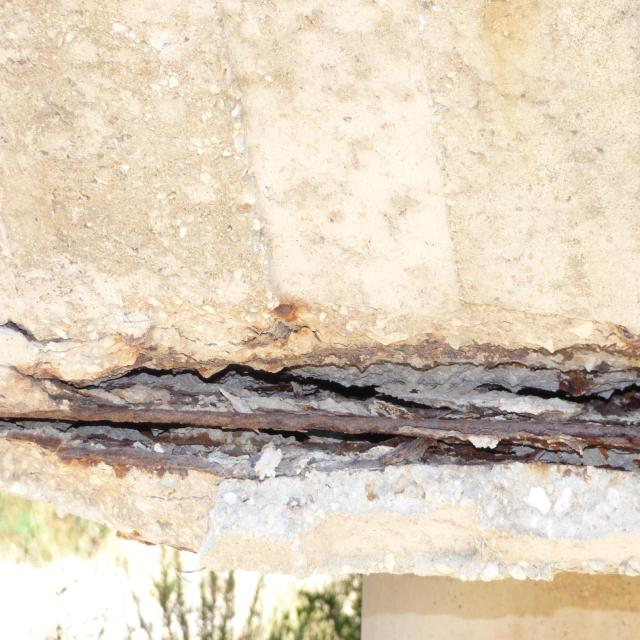corrosion: (0, 291, 640, 501)
